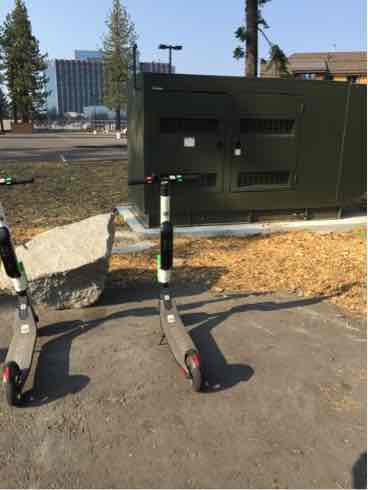scooter: (119, 166, 224, 395)
